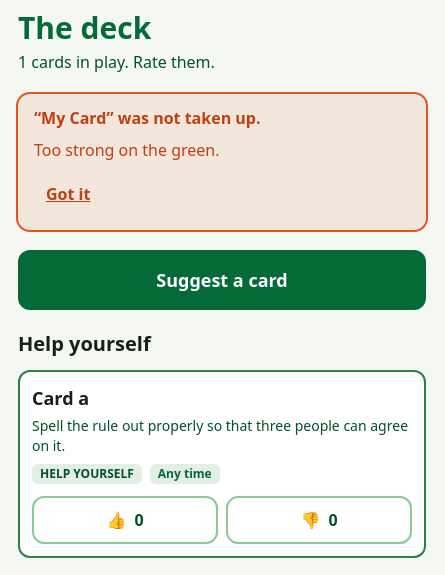
Scenario: CardGallery › tells a player why their card was turned down, and stops once dismissed
The width and height of the screenshot is (445, 575).
expect the text "“My Card” was not taken up." is shown: met, box [34,107,260,129]
expect the text "Too strong on the green." is shown: met, box [34,139,220,161]
Click the button "Got it": point(68, 194) [34,170,102,218]
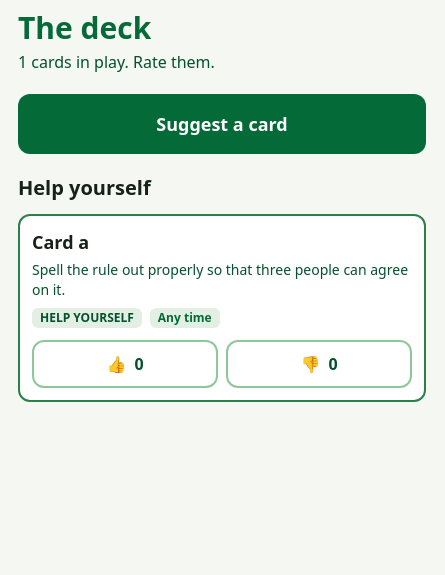
expect the text "was not taken up" is gone: met
